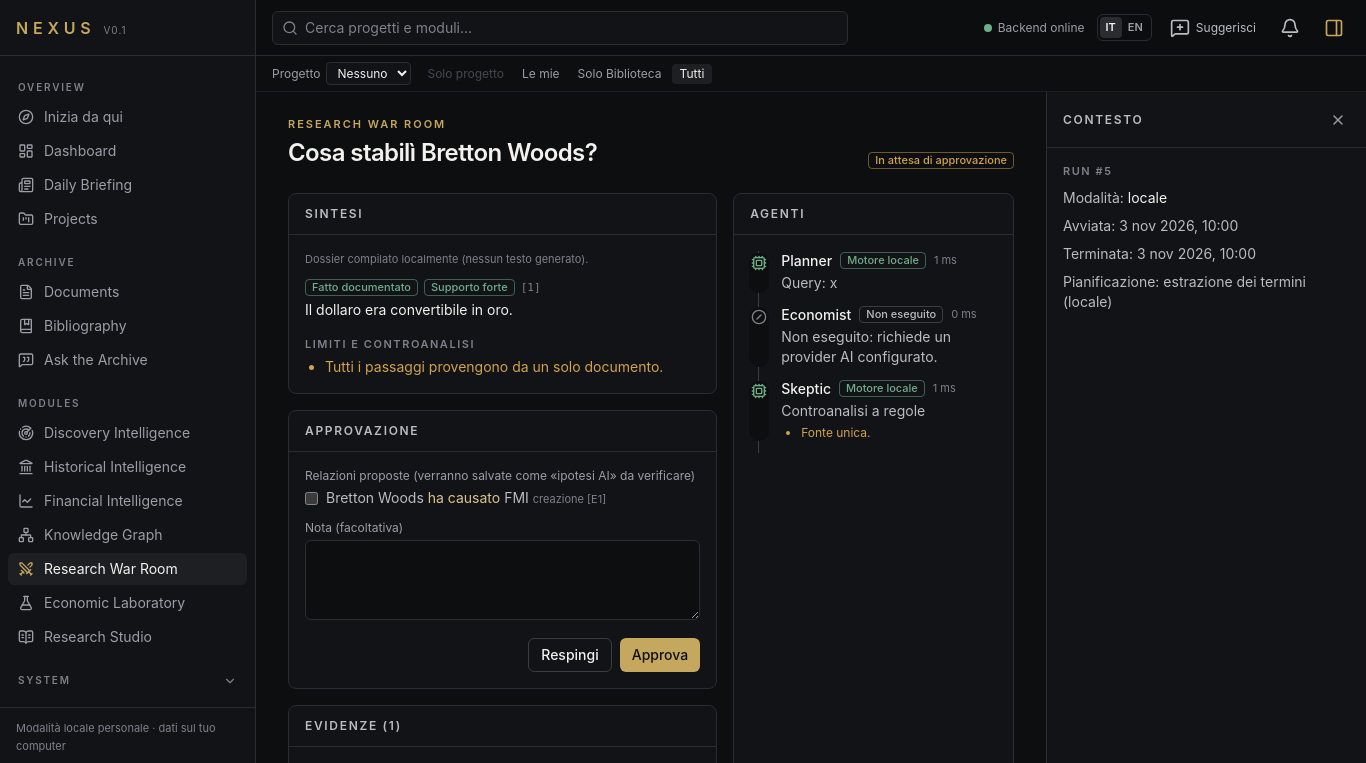
Test: war room › sends the approval with the selected AI relation proposals
Click the checkbox at (312, 498), box [305,492,318,504]
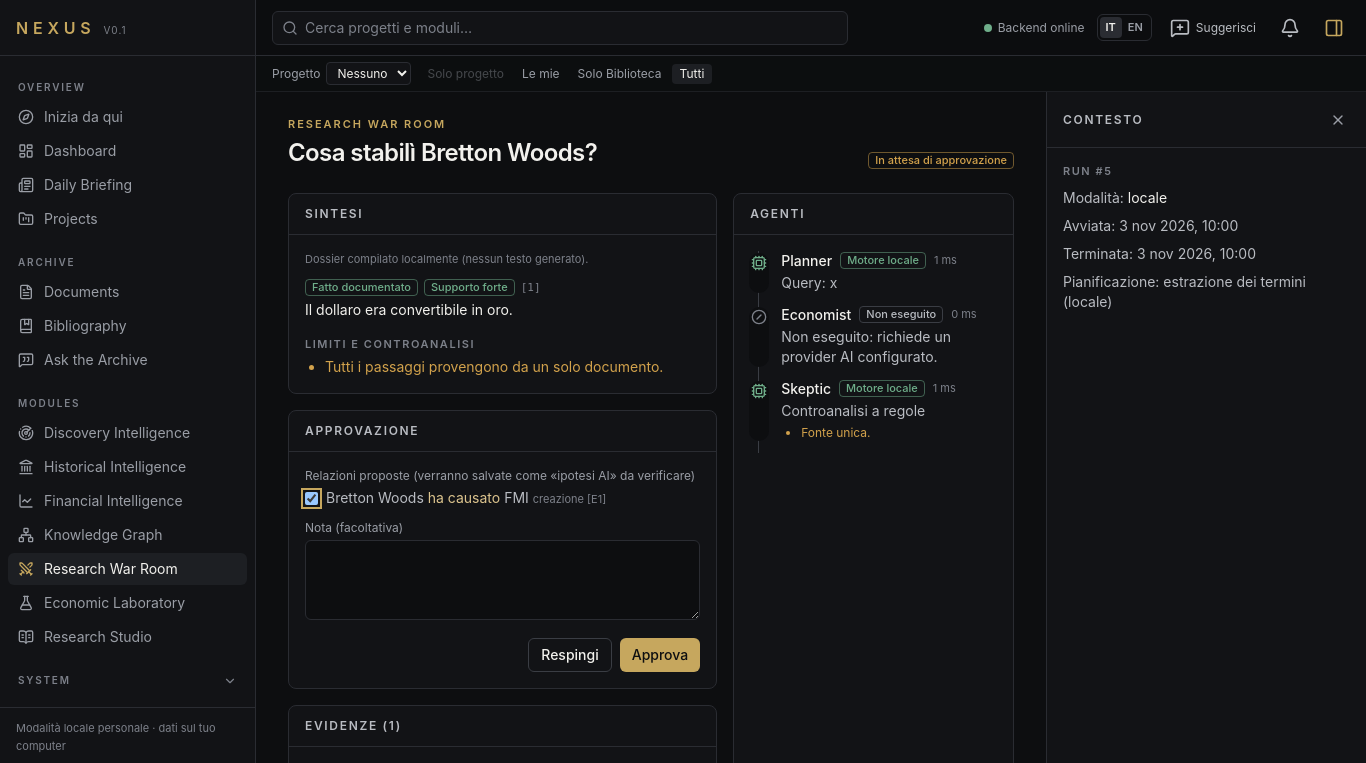
Click the button "Approva" at (660, 654), box [620,638,700,672]
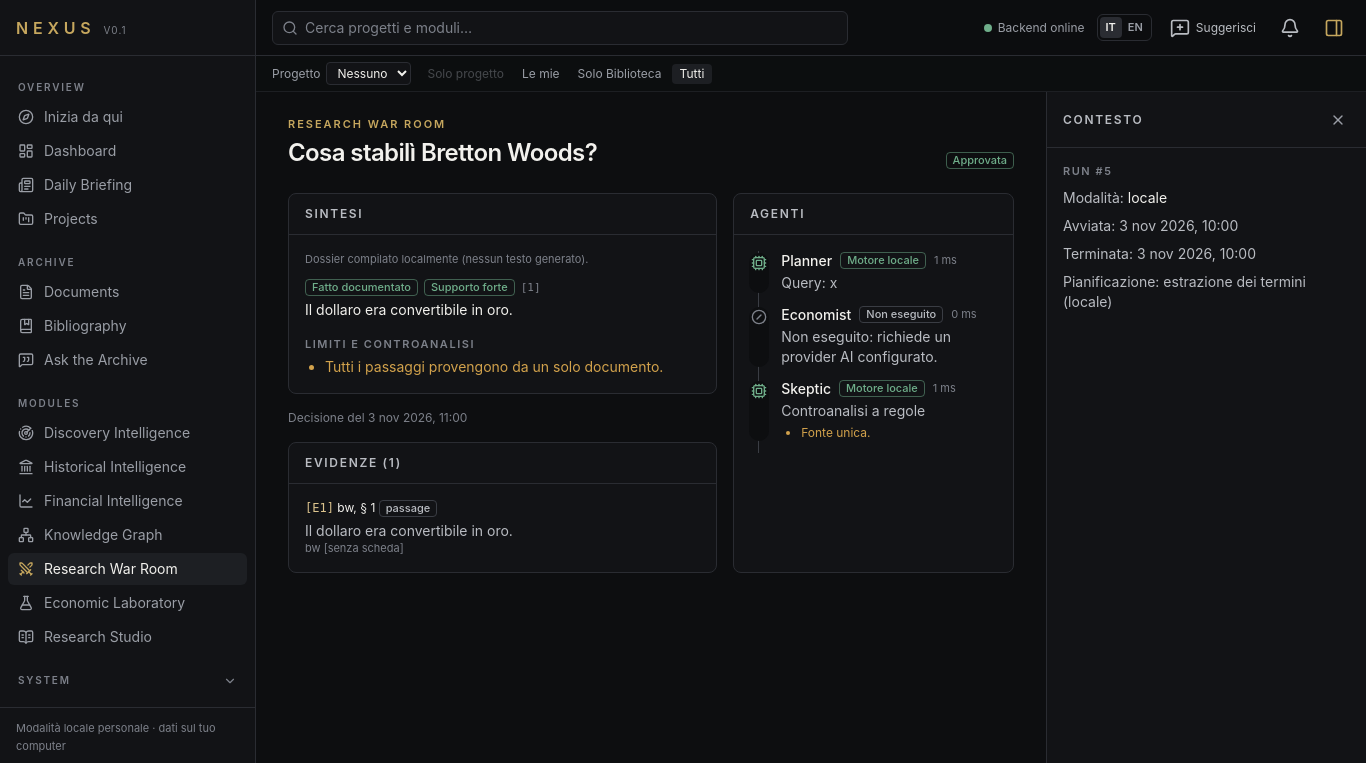
Now the text "Approvata" is shown, box [946,152,1014,168]
